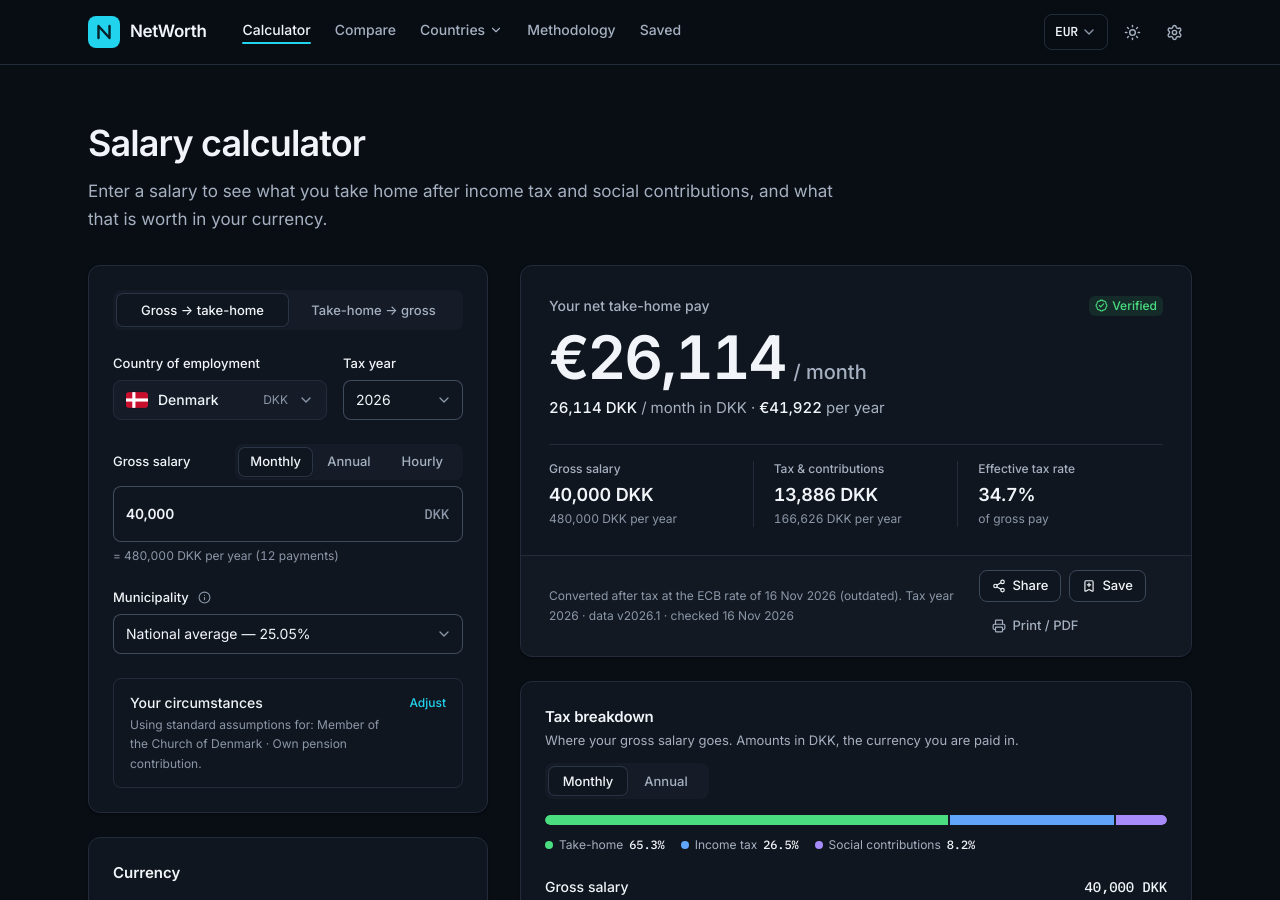
Test case: calculator › switches country with the flag picker
The image size is (1280, 900).
Click the button with aria-label "Employment country: Denmark".
click(220, 400)  # box [113,380,327,420]
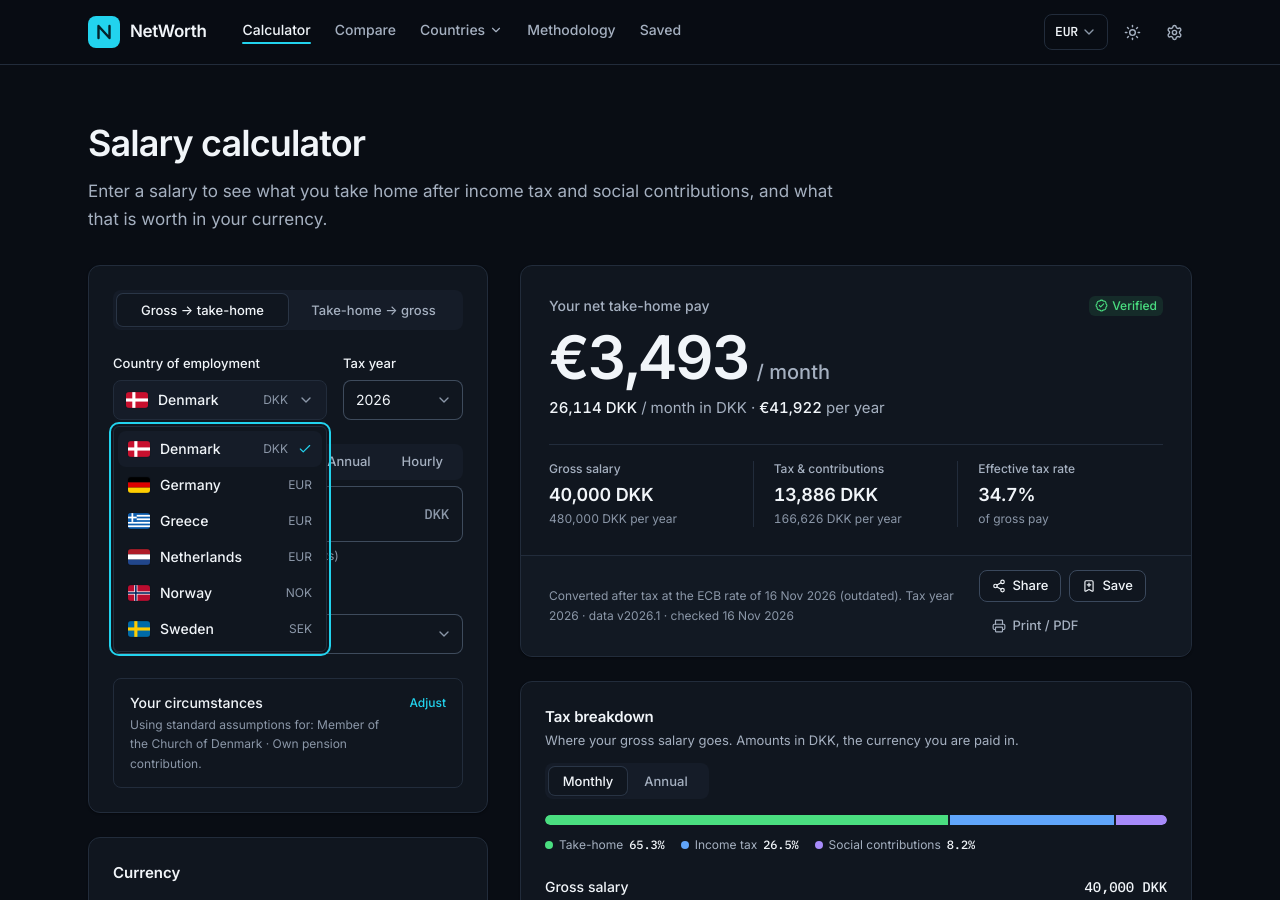
Click the option "Sweden SEK".
click(187, 628)  # box [128,620,312,637]
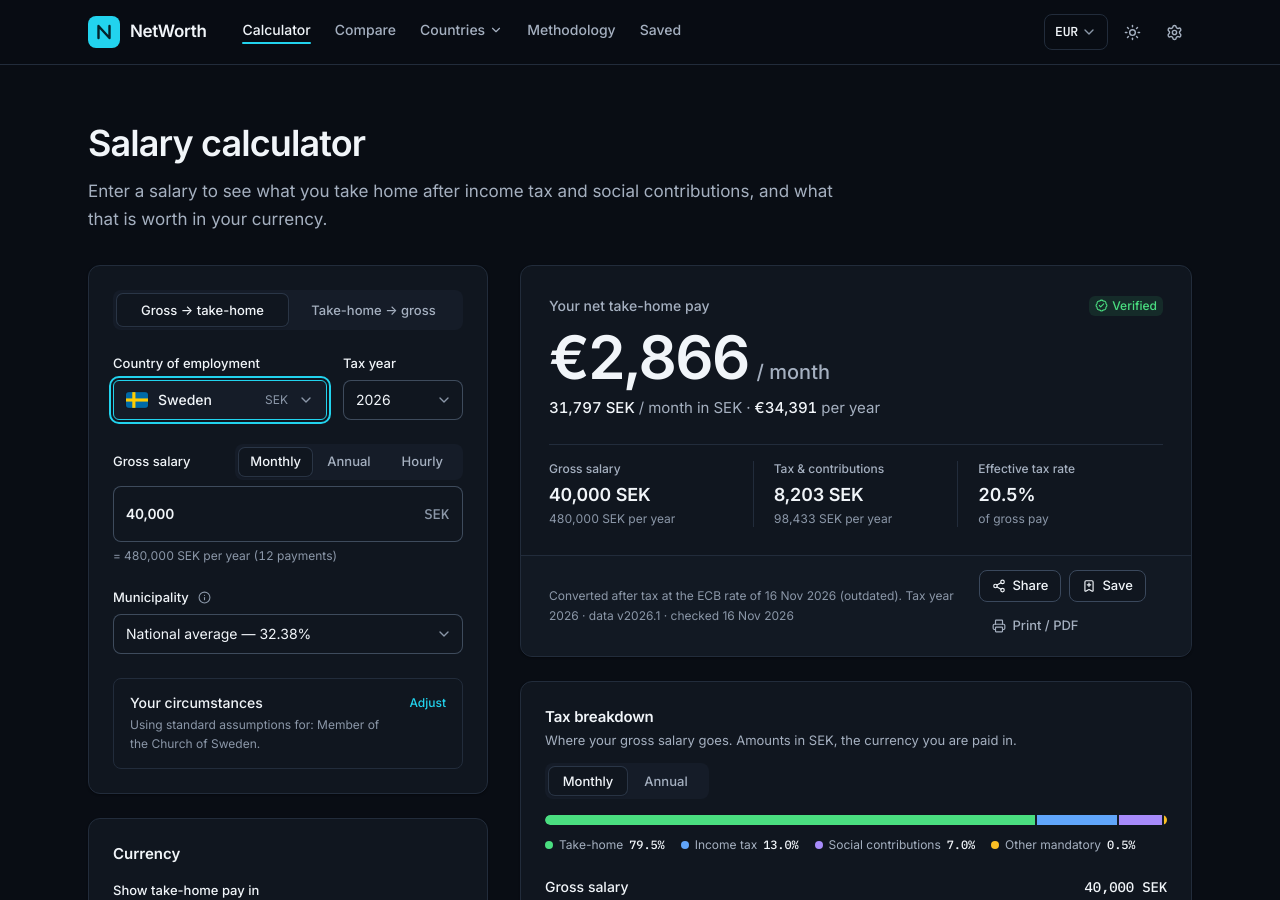
expect the dropdown labelled "Municipality" is shown: met, box [113,614,463,654]
expect the button with aria-label "Employment country: Sweden" is shown: met, box [113,380,327,420]
expect the field named "Gross monthly salary in SEK" is shown: met, box [113,486,463,542]
